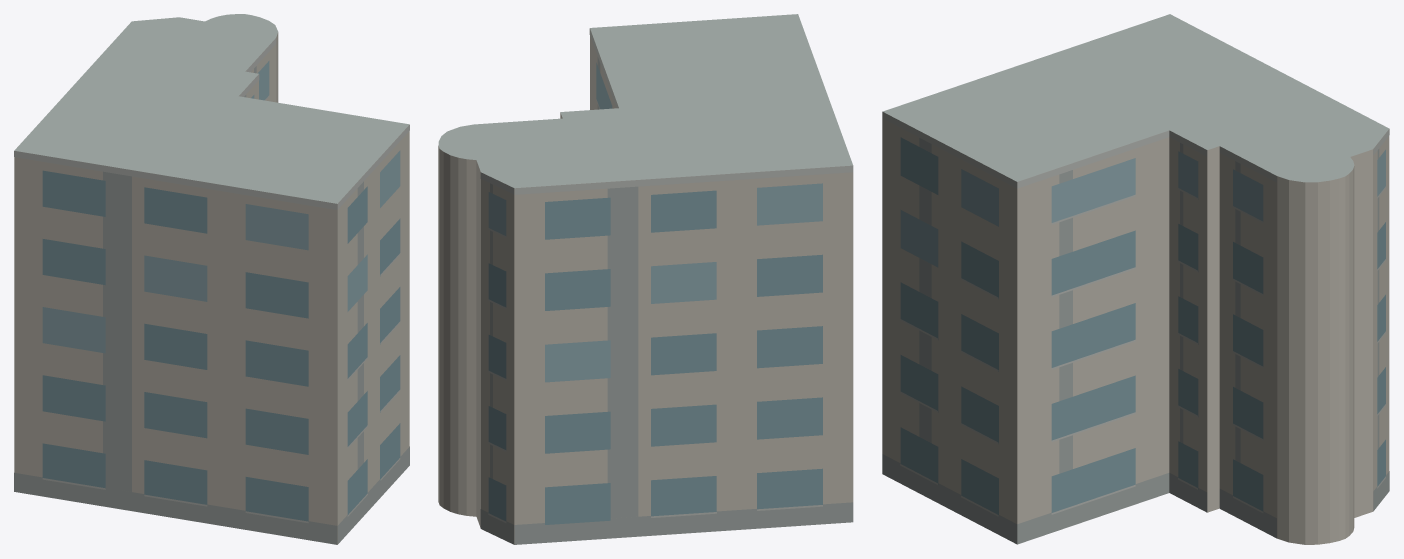
The model's file is survey-upis-32727621.glb.
The picture shows the model from 3 angles, left to right: view 1: azimuth 30°, elevation 25°; view 2: azimuth 150°, elevation 25°; view 3: azimuth 270°, elevation 25°; orthographic projection. The views are drawn at different scales.
Visible parts, largest first — view 1: survey-upis-32727621.tmp; view 2: survey-upis-32727621.tmp; view 3: survey-upis-32727621.tmp.
Boxes of the visible parts, x1,y1,x2,y2 form: survey-upis-32727621.tmp: (14,14,409,544); survey-upis-32727621.tmp: (438,14,853,544); survey-upis-32727621.tmp: (882,14,1389,544).
Size of the model in its own units: 13.06 by 13.1 by 16.61.
